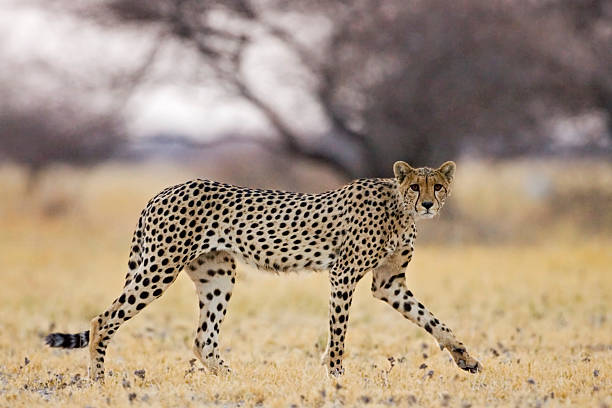cheetah: (391, 152, 462, 225)
